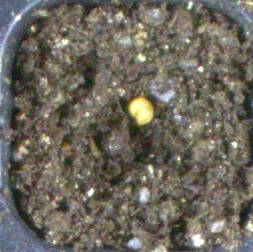chilli seed: (127, 96, 154, 126)
